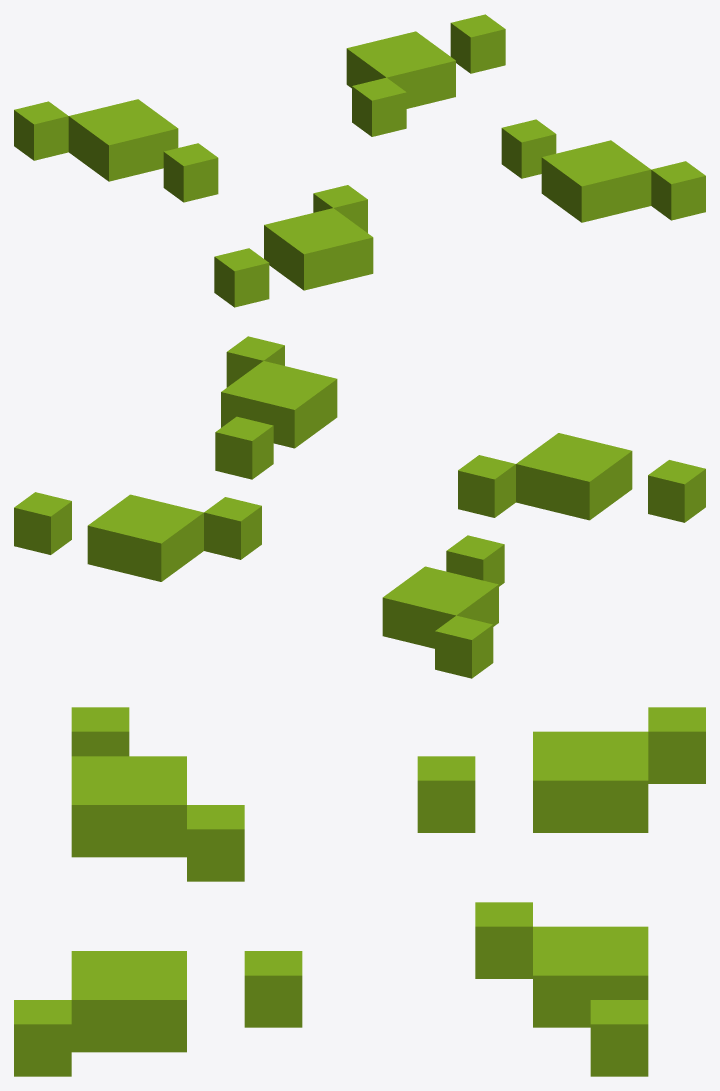
Rendered from Potato1.gltf.
3 views of the same model, one above another, from view 1: azimuth 30°, elevation 25°; view 2: azimuth 150°, elevation 25°; view 3: azimuth 270°, elevation 25° (orthographic). The views are drawn at different scales.
Visible parts, largest first — view 1: cube (×24); view 2: cube (×24); view 3: cube (×24).
Part boxes in pixels (x1,y1,x2,y2): cube (×24): (14, 14, 705, 307); cube (×24): (14, 336, 705, 678); cube (×24): (14, 707, 705, 1076).
Size of the model in its own units: 0.8125 by 0.0625 by 0.75.
Materials: 1 (1 with a texture image).
